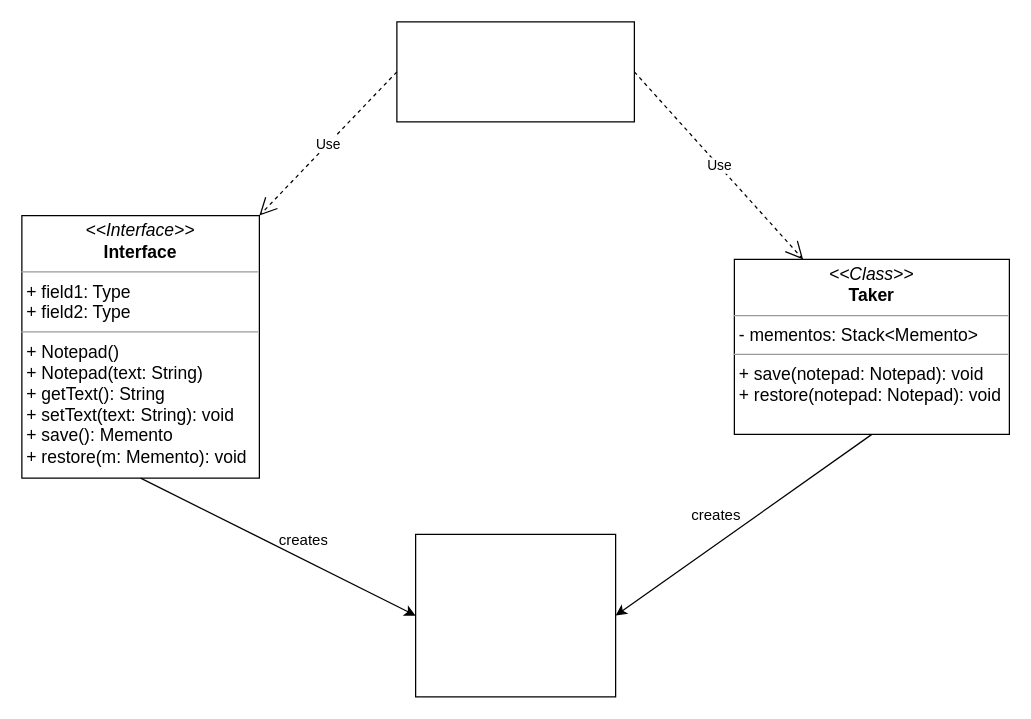
The diagram is 1031 pixels wide and 719 high, and some of its shapes have lost their labels. The shapes that lost their labels are listed below. From the top down, each one's centre as x and y in pixels, then its label:
At point (515, 71): "<<Class>> Main + main(args: String[]): void".
At point (515, 615): "<<Class>> Memento - state: String + Memento(state: String) + getState(): String".
